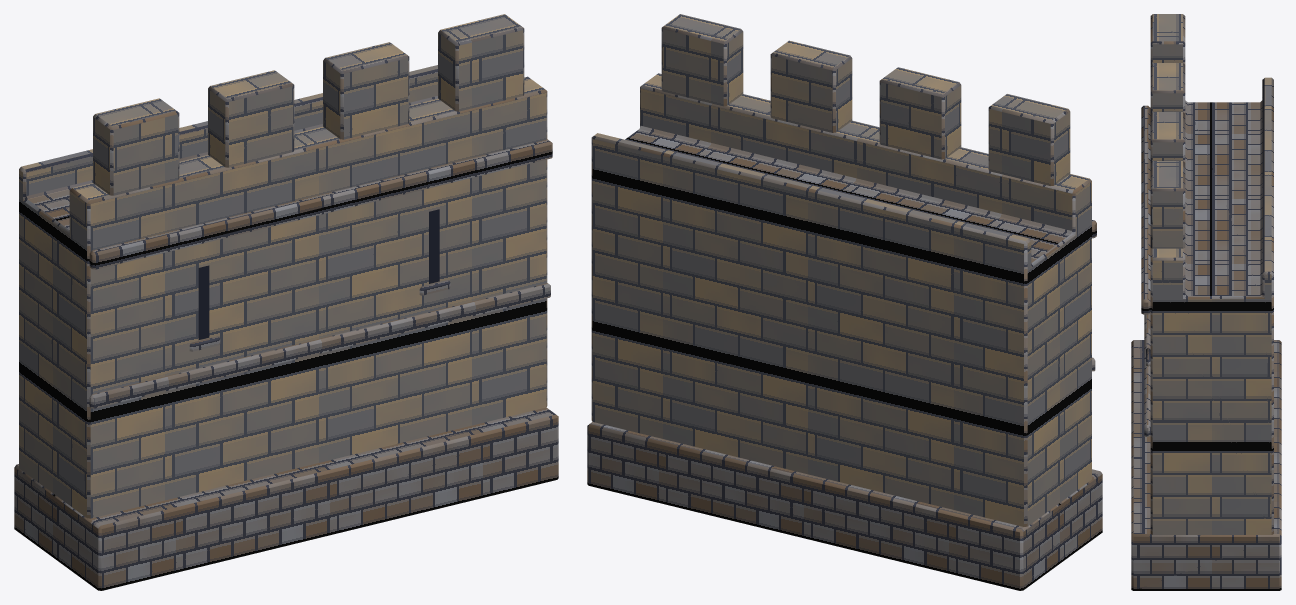
Rendered from town_wall_1.glb.
3 renders of one model, left to right at view 1: azimuth 30°, elevation 25°; view 2: azimuth 150°, elevation 25°; view 3: azimuth 270°, elevation 25°, orthographic. The views are drawn at different scales.
Parts seen in each view (by area): view 1: town_wall_2; view 2: town_wall_2; view 3: town_wall_2.
Boxes of the visible parts, x1=… form: town_wall_2: x1=14, y1=14, x2=558, y2=590; town_wall_2: x1=587, y1=14, x2=1102, y2=590; town_wall_2: x1=1131, y1=14, x2=1281, y2=590.
Bounding box in the file's own units: 6 × 5.6 × 1.95.
3 materials, 3 textured.
